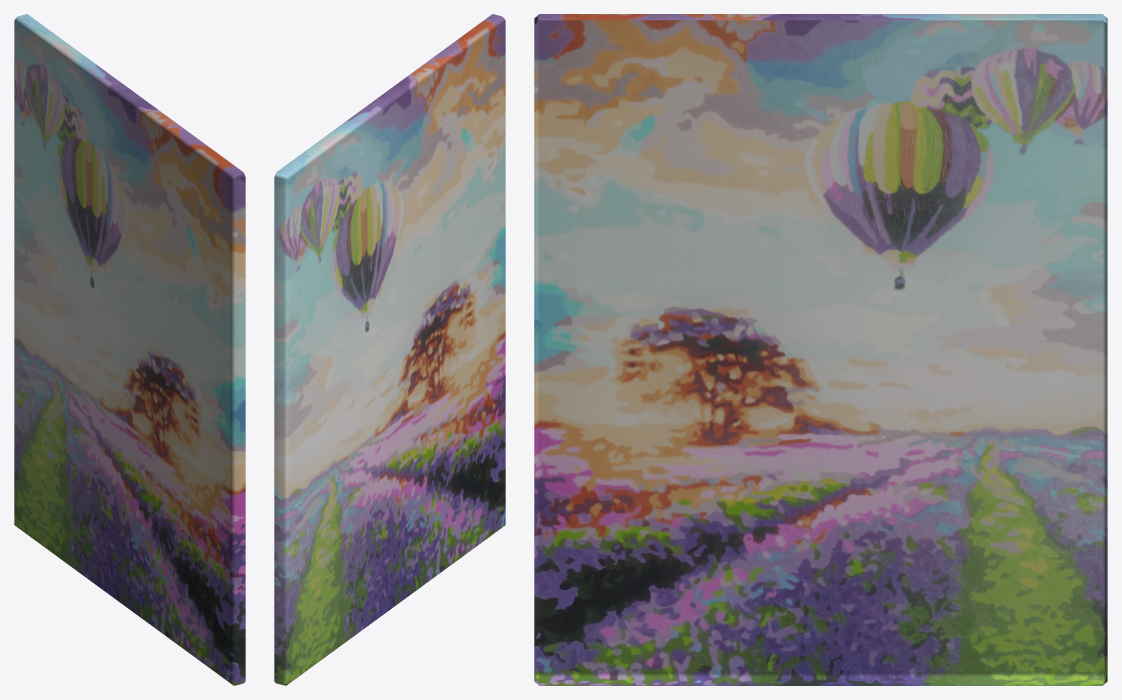
The model's file is SM_Paintings_A1.fbx.
3 views of the same model, side by side, from view 1: azimuth 30°, elevation 25°; view 2: azimuth 150°, elevation 25°; view 3: azimuth 270°, elevation 25° (orthographic). The views are drawn at different scales.
Visible parts, largest first — view 1: SM_Paintings_A1; view 2: SM_Paintings_A1; view 3: SM_Paintings_A1.
Part boxes in pixels (bbox=[...]): SM_Paintings_A1: bbox=[14, 14, 245, 685]; SM_Paintings_A1: bbox=[274, 14, 505, 685]; SM_Paintings_A1: bbox=[534, 14, 1107, 685].
Size of the model in its own units: 2.13 by 62.15 by 79.63.
1 material, 1 textured.
